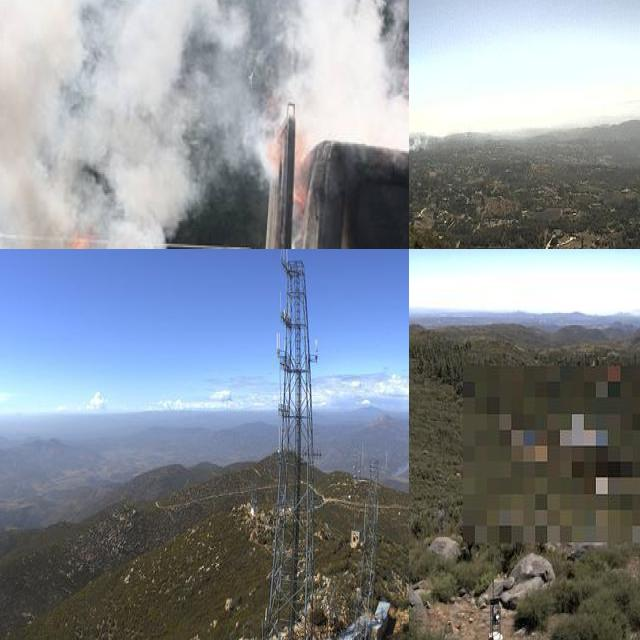fire: (276, 123, 312, 202), (64, 221, 111, 249)
smoke: (0, 0, 409, 249), (409, 117, 444, 150)
